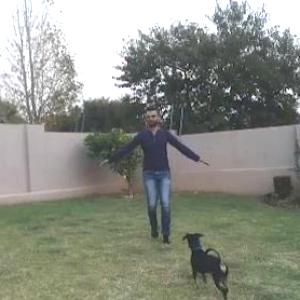land: (80, 103, 214, 266)
